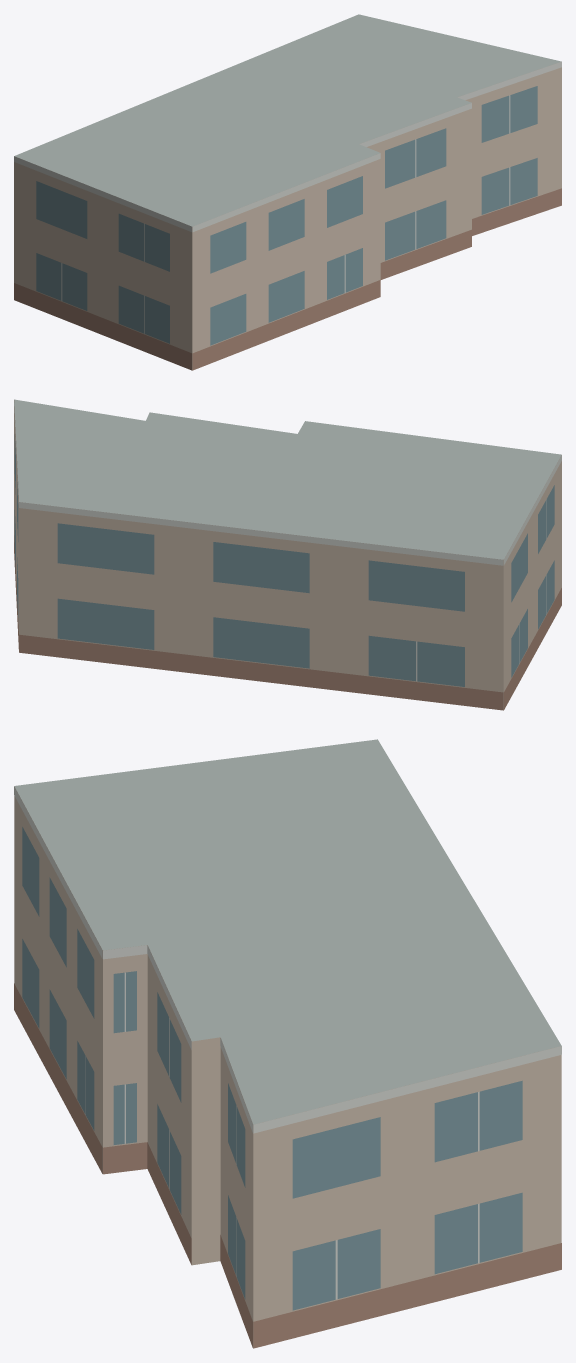
File: survey-upis-32760766.glb
The picture shows the model from 3 angles, top to bottom: view 1: azimuth 30°, elevation 25°; view 2: azimuth 150°, elevation 25°; view 3: azimuth 270°, elevation 25°; orthographic projection. The views are drawn at different scales.
Parts seen in each view (by area): view 1: survey-upis-32760766.tmp; view 2: survey-upis-32760766.tmp; view 3: survey-upis-32760766.tmp.
Part boxes in pixels (left/top/right/bottom): survey-upis-32760766.tmp: left=14, top=14, right=561, bottom=370; survey-upis-32760766.tmp: left=14, top=399, right=561, bottom=710; survey-upis-32760766.tmp: left=14, top=739, right=561, bottom=1348.
Bounding box in the file's own units: 22.53 × 6.1 × 13.53.
